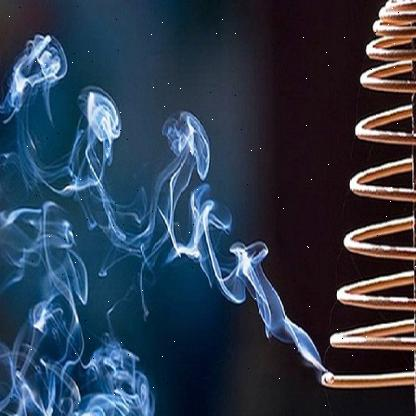smoke: (0, 27, 328, 416)
